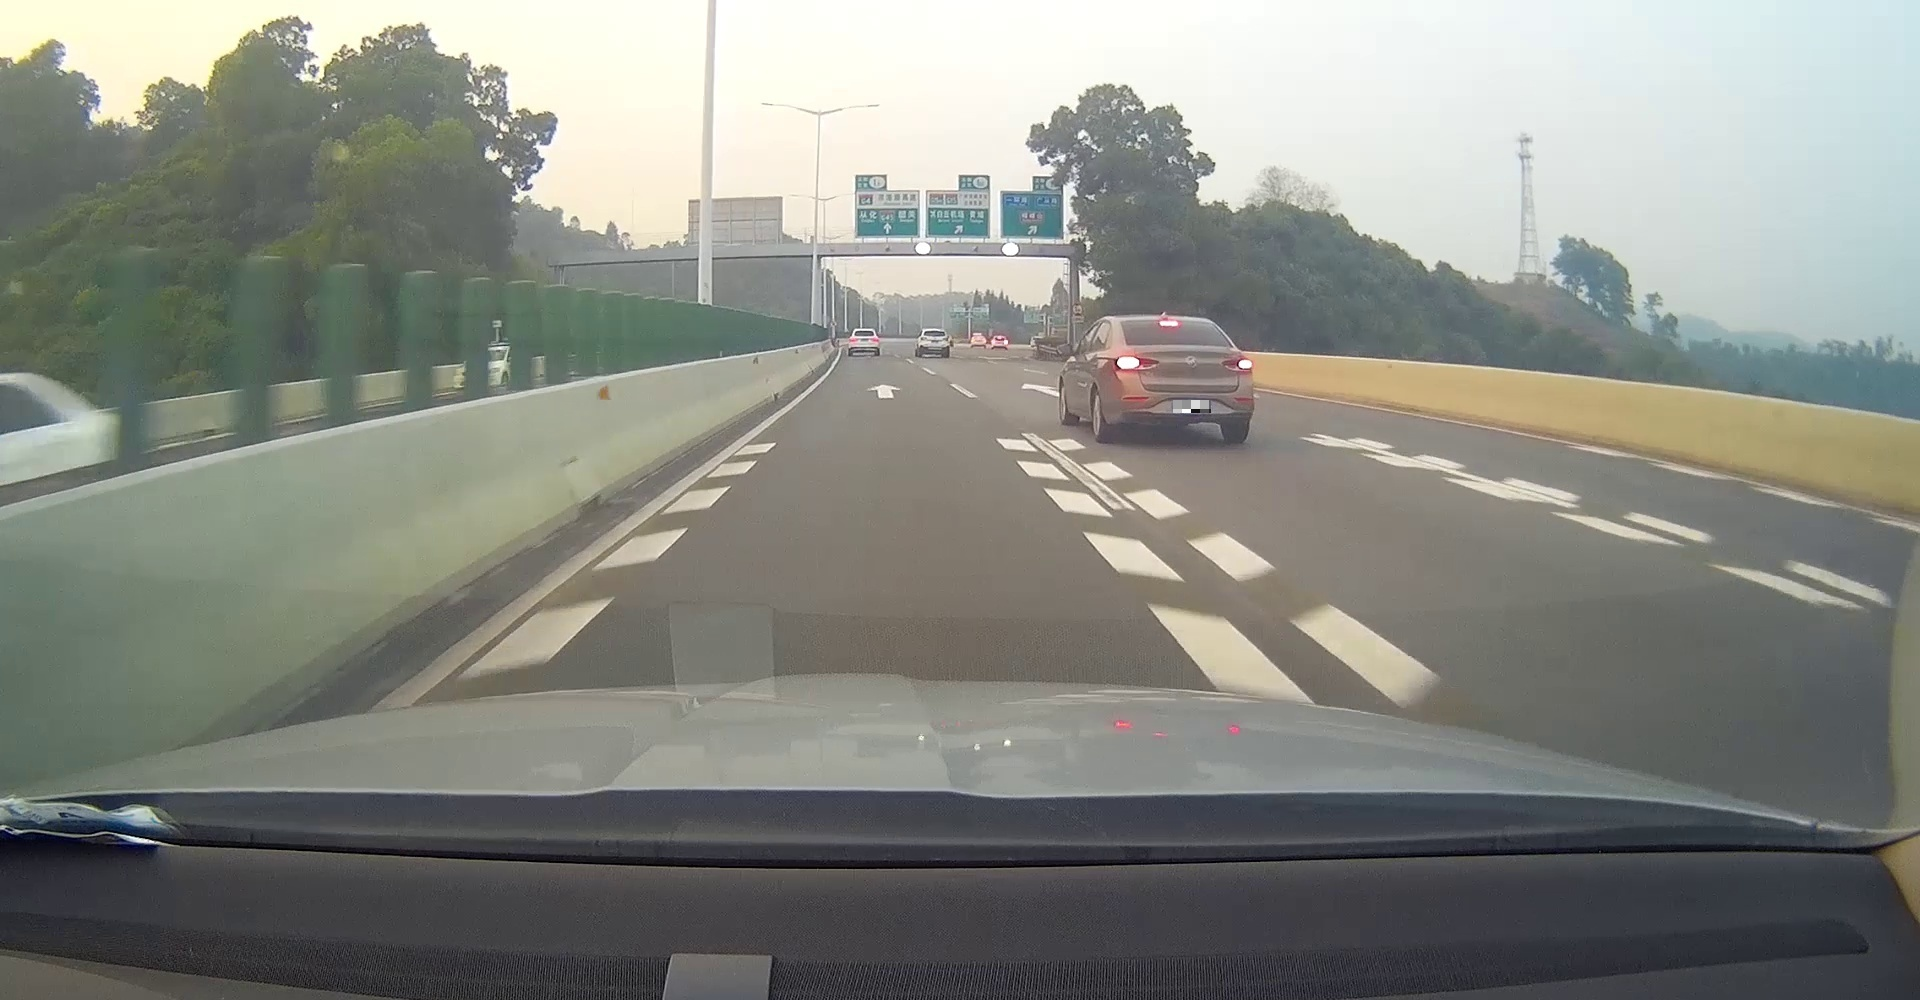L_light: (1116, 357, 1161, 371), (850, 338, 856, 341), (921, 338, 927, 340)
R_light: (1222, 358, 1252, 372), (870, 338, 879, 341), (942, 338, 947, 340)
T_light: (1161, 321, 1178, 326), (862, 331, 869, 332)
day-brake: (1111, 317, 1253, 444)
day-no: (848, 329, 880, 357), (919, 329, 949, 358)
plate_1: (1173, 400, 1211, 412)
